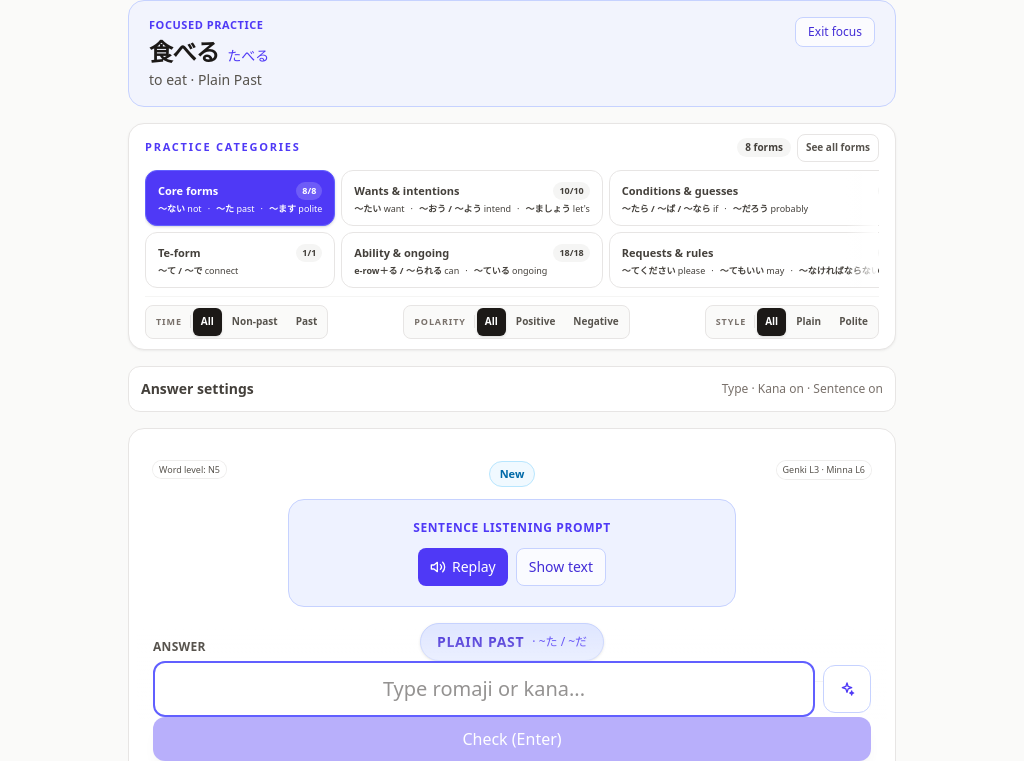
Test: StudyView continuous Practice startup › keeps a reviewed listening sentence hidden until Show text and plays it once
The image size is (1024, 761).
Expected: the text "Sentence listening prompt" is shown, [413,519,611,536]
Click the button "Show text": (561,567) [516,548,606,586]
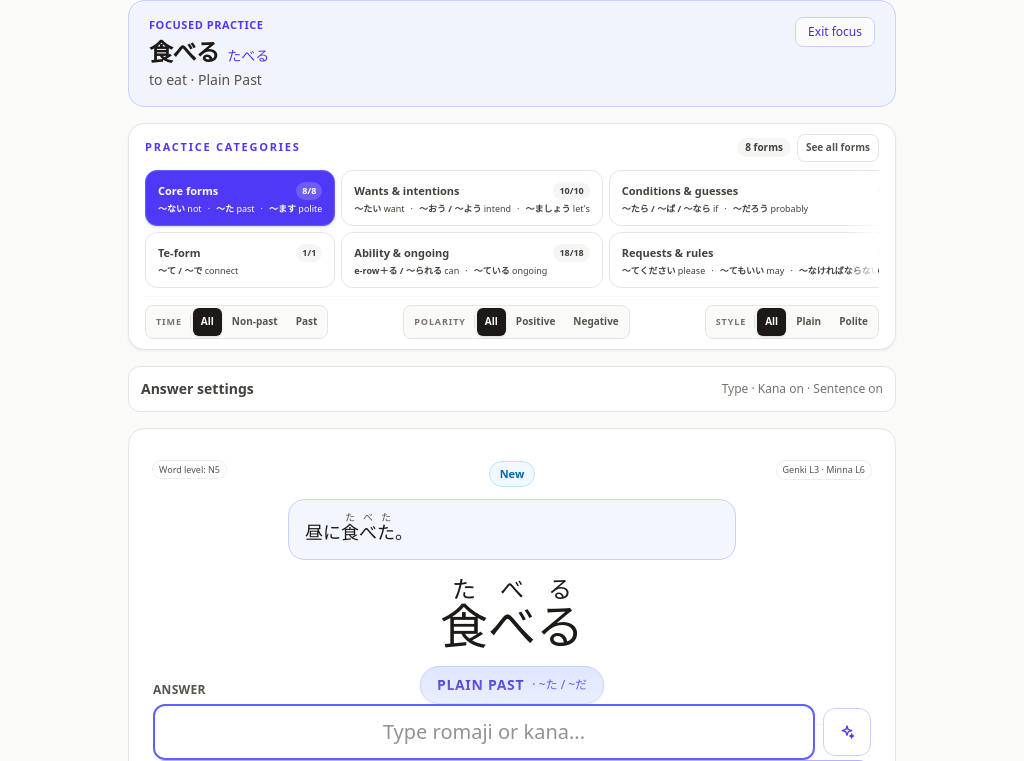
Now the element showing "昼に 食べた 。" is shown, box [288,499,736,560]
